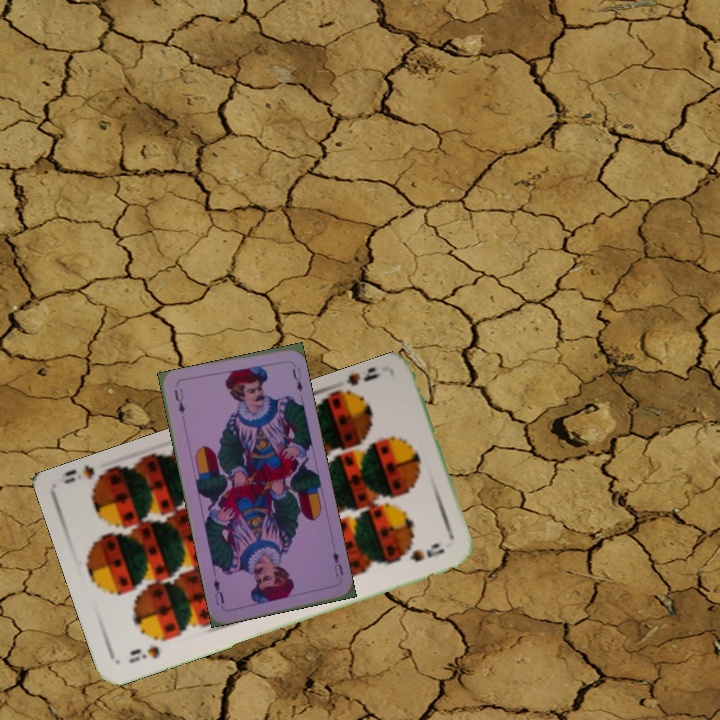EU: (329, 548, 346, 579), (170, 385, 187, 416)
S9: (333, 365, 384, 403), (125, 642, 162, 666)
